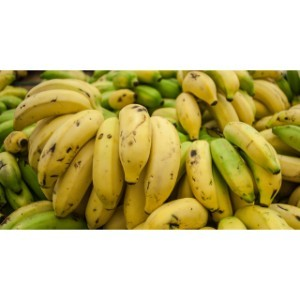banana_brain food: (38, 92, 181, 215)
